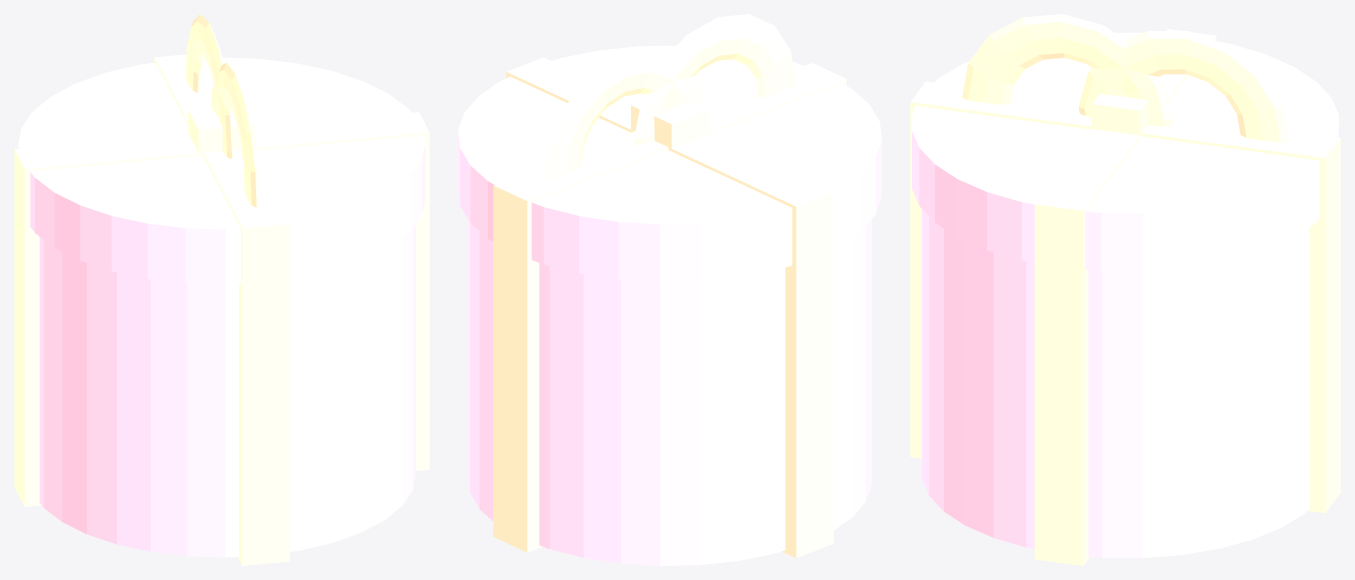
Rendered from Tmpl_Round_Root_220.glb.
The picture shows the model from 3 angles, left to right: view 1: azimuth 30°, elevation 25°; view 2: azimuth 150°, elevation 25°; view 3: azimuth 270°, elevation 25°; orthographic projection. The views are drawn at different scales.
Parts seen in each view (by area): view 1: Tmpl_Round_Base.218, Tmpl_Round_Lid.218, Tmpl_Round_Ribbon_X.218, Tmpl_Round_Ribbon_Y.218, Tmpl_Round_BowR.218, Tmpl_Round_BowL.218, Tmpl_Round_BowKnot.218; view 2: Tmpl_Round_Base.218, Tmpl_Round_Lid.218, Tmpl_Round_Ribbon_Y.218, Tmpl_Round_Ribbon_X.218, Tmpl_Round_BowL.218, Tmpl_Round_BowR.218, Tmpl_Round_BowKnot.218; view 3: Tmpl_Round_Base.218, Tmpl_Round_Lid.218, Tmpl_Round_Ribbon_Y.218, Tmpl_Round_Ribbon_X.218, Tmpl_Round_BowL.218, Tmpl_Round_BowR.218, Tmpl_Round_BowKnot.218.
Part boxes in pixels (left/top/right/bottom): Tmpl_Round_Base.218: left=39, top=224, right=415, bottom=557; Tmpl_Round_Lid.218: left=18, top=57, right=425, bottom=284; Tmpl_Round_Ribbon_X.218: left=154, top=54, right=289, bottom=565; Tmpl_Round_Ribbon_Y.218: left=14, top=112, right=429, bottom=506; Tmpl_Round_BowR.218: left=185, top=14, right=233, bottom=159; Tmpl_Round_BowL.218: left=211, top=62, right=258, bottom=207; Tmpl_Round_BowKnot.218: left=188, top=107, right=255, bottom=155; Tmpl_Round_Base.218: left=468, top=219, right=871, bottom=565; Tmpl_Round_Lid.218: left=458, top=45, right=881, bottom=281; Tmpl_Round_Ribbon_Y.218: left=506, top=57, right=833, bottom=557; Tmpl_Round_Ribbon_X.218: left=493, top=63, right=846, bottom=552; Tmpl_Round_BowL.218: left=634, top=14, right=795, bottom=145; Tmpl_Round_BowR.218: left=544, top=48, right=705, bottom=180; Tmpl_Round_BowKnot.218: left=631, top=101, right=708, bottom=151; Tmpl_Round_Base.218: left=922, top=209, right=1309, bottom=557; Tmpl_Round_Lid.218: left=912, top=32, right=1338, bottom=271; Tmpl_Round_Ribbon_Y.218: left=1034, top=29, right=1216, bottom=565; Tmpl_Round_Ribbon_X.218: left=910, top=81, right=1340, bottom=513; Tmpl_Round_BowL.218: left=962, top=14, right=1172, bottom=126; Tmpl_Round_BowR.218: left=1078, top=31, right=1288, bottom=142; Tmpl_Round_BowKnot.218: left=1092, top=94, right=1148, bottom=137.
Size of the model in its own units: 1.14 by 1.32 by 1.14.
